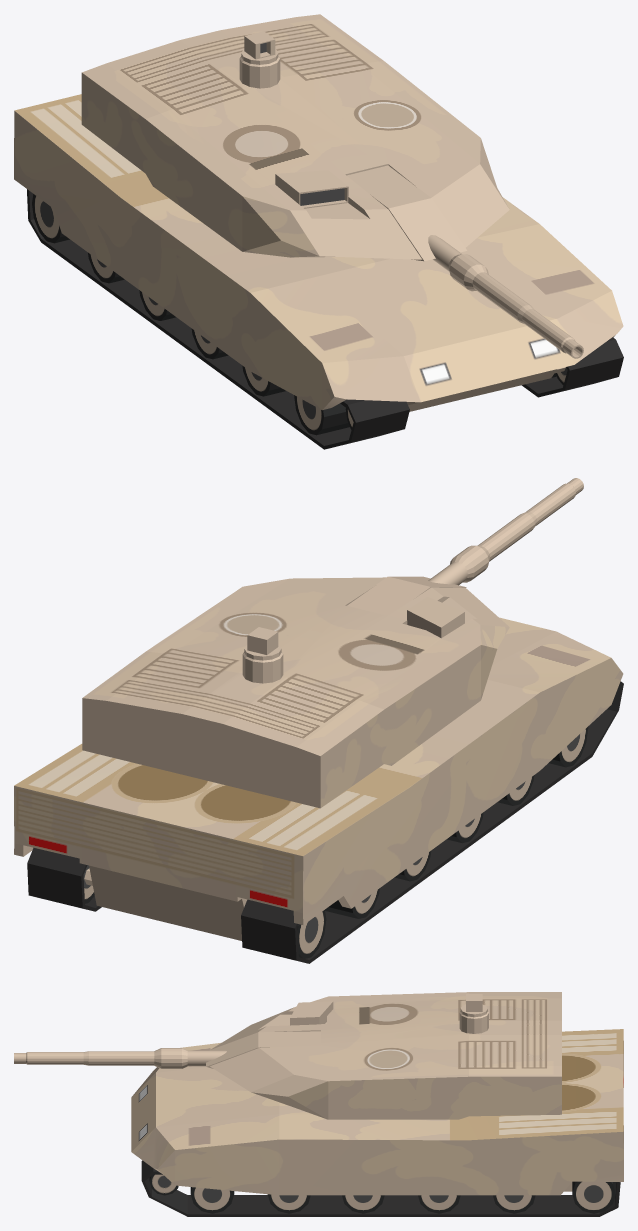
File: Tank_02.fbx
3 views of the same model, one above another, from view 1: azimuth 30°, elevation 25°; view 2: azimuth 150°, elevation 25°; view 3: azimuth 270°, elevation 25° (orthographic). The views are drawn at different scales.
Visible parts, largest first — view 1: Tank_02_Body, Tank_02_UpperBody, Tank_02_Chain, Tank_02_MainGunBody, Tank_02_MainGun, Tank_02_Chain02, Tank_02_Wheel14, Tank_02_Wheel04; view 2: Tank_02_Body, Tank_02_UpperBody, Tank_02_Chain, Tank_02_MainGun, Tank_02_Chain02, Tank_02_MainGunBody, Tank_02_Wheel04, Tank_02_Wheel14, Tank_02_Wheel02; view 3: Tank_02_Body, Tank_02_UpperBody, Tank_02_Chain02, Tank_02_MainGun, Tank_02_MainGunBody, Tank_02_Wheel03, Tank_02_Wheel11, Tank_02_Wheel09, Tank_02_Wheel05, Tank_02_Wheel07, Tank_02_Wheel01, Tank_02_Wheel12.
Part boxes in pixels (x1,y1,x2,y2): Tank_02_Body: (14,94,623,411); Tank_02_UpperBody: (81,14,509,259); Tank_02_Chain: (27,189,409,449); Tank_02_MainGunBody: (347,165,467,261); Tank_02_MainGun: (428,235,583,358); Tank_02_Chain02: (522,337,623,397); Tank_02_Wheel14: (294,395,349,435); Tank_02_Wheel04: (32,194,69,243); Tank_02_Body: (14,617,623,940); Tank_02_UpperBody: (82,577,509,808); Tank_02_Chain: (241,681,623,963); Tank_02_MainGun: (428,478,583,585); Tank_02_Chain02: (27,847,101,911); Tank_02_MainGunBody: (347,576,466,615); Tank_02_Wheel04: (297,910,326,958); Tank_02_Wheel14: (548,726,588,767); Tank_02_Wheel02: (325,888,379,918); Tank_02_Body: (131,1029,623,1195); Tank_02_UpperBody: (210,992,561,1119); Tank_02_Chain02: (141,1160,620,1216); Tank_02_MainGun: (14,1048,226,1068); Tank_02_MainGunBody: (206,1031,320,1068); Tank_02_Wheel03: (572,1181,615,1213); Tank_02_Wheel11: (190,1187,234,1213); Tank_02_Wheel09: (267,1194,310,1213); Tank_02_Wheel05: (342,1195,384,1213); Tank_02_Wheel07: (418,1195,460,1213); Tank_02_Wheel01: (493,1195,535,1213); Tank_02_Wheel12: (149,1174,178,1195).
Bounding box in the file's own units: 33.02 × 25.6 × 82.65.
